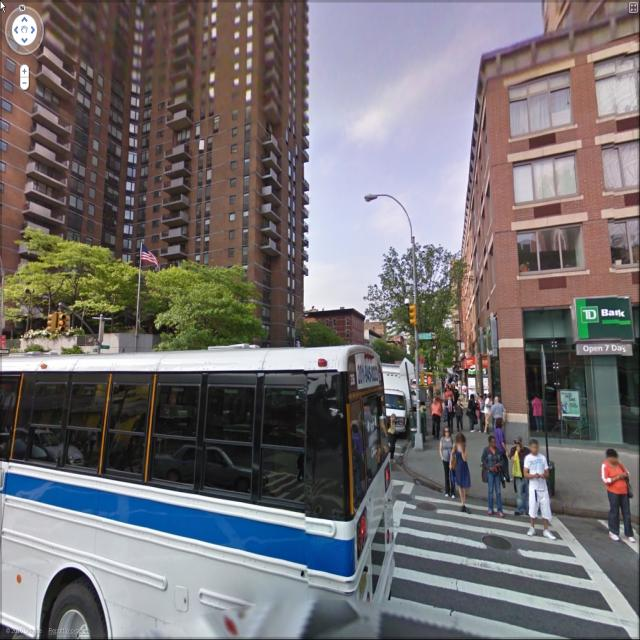b_1: (0, 10, 308, 276), (455, 37, 640, 421)
b_2: (2, 224, 278, 359), (367, 233, 478, 387)
